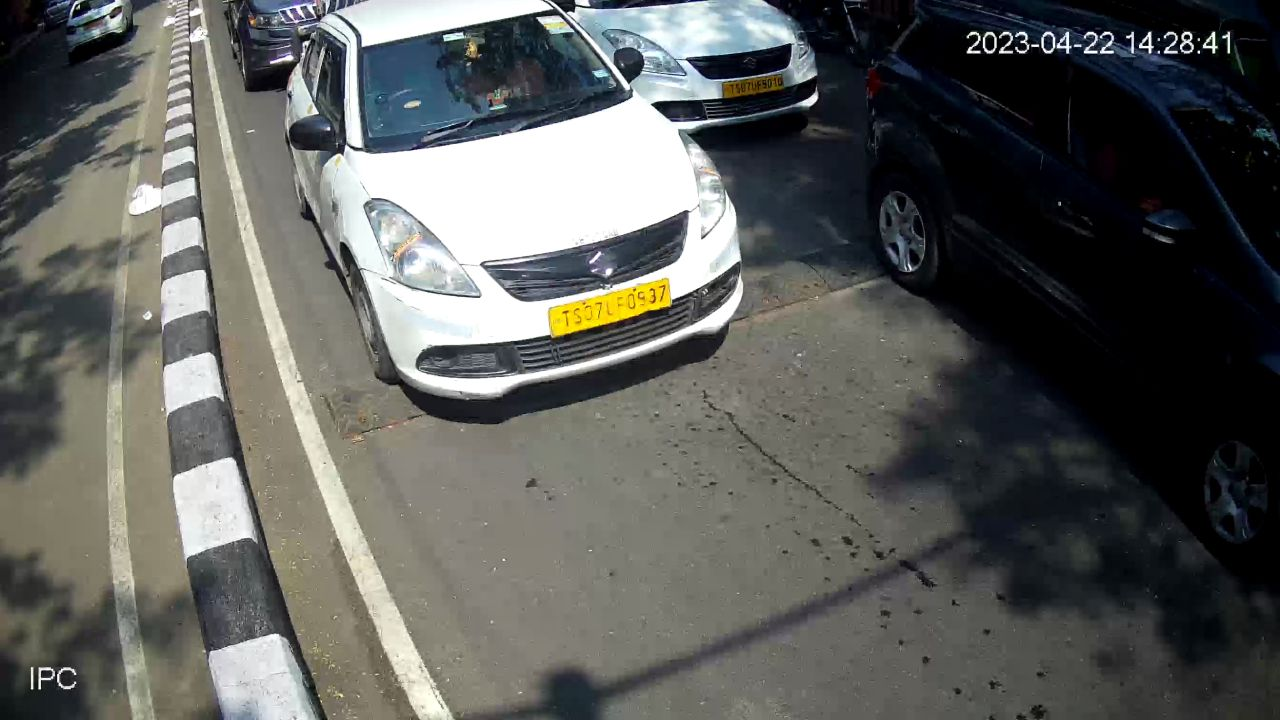license_plate: (544, 269, 679, 348), (719, 67, 788, 105)
